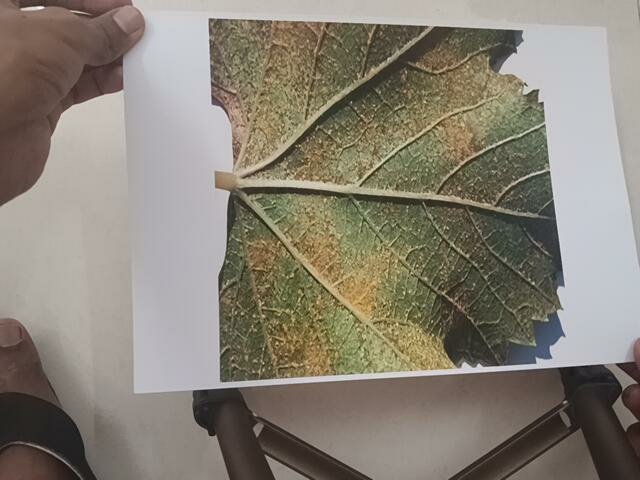Grape_Rust_Fungus: (208, 28, 565, 365)
